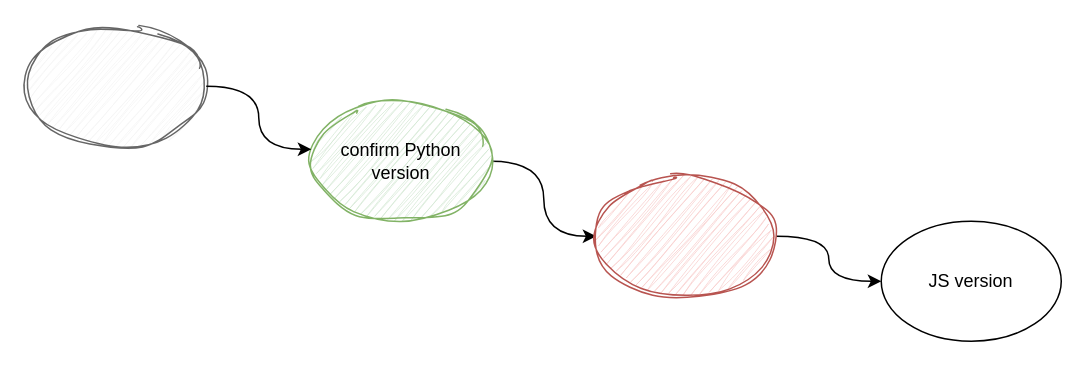
The diagram is 1088 pixels wide and 368 high, and some of its shapes have lost their labels. The box of each missing label's shape, as (x1, y1, x2, y2) in pixels:
recap, observe, document: (595, 175, 776, 296)
rt: (25, 25, 206, 146)
